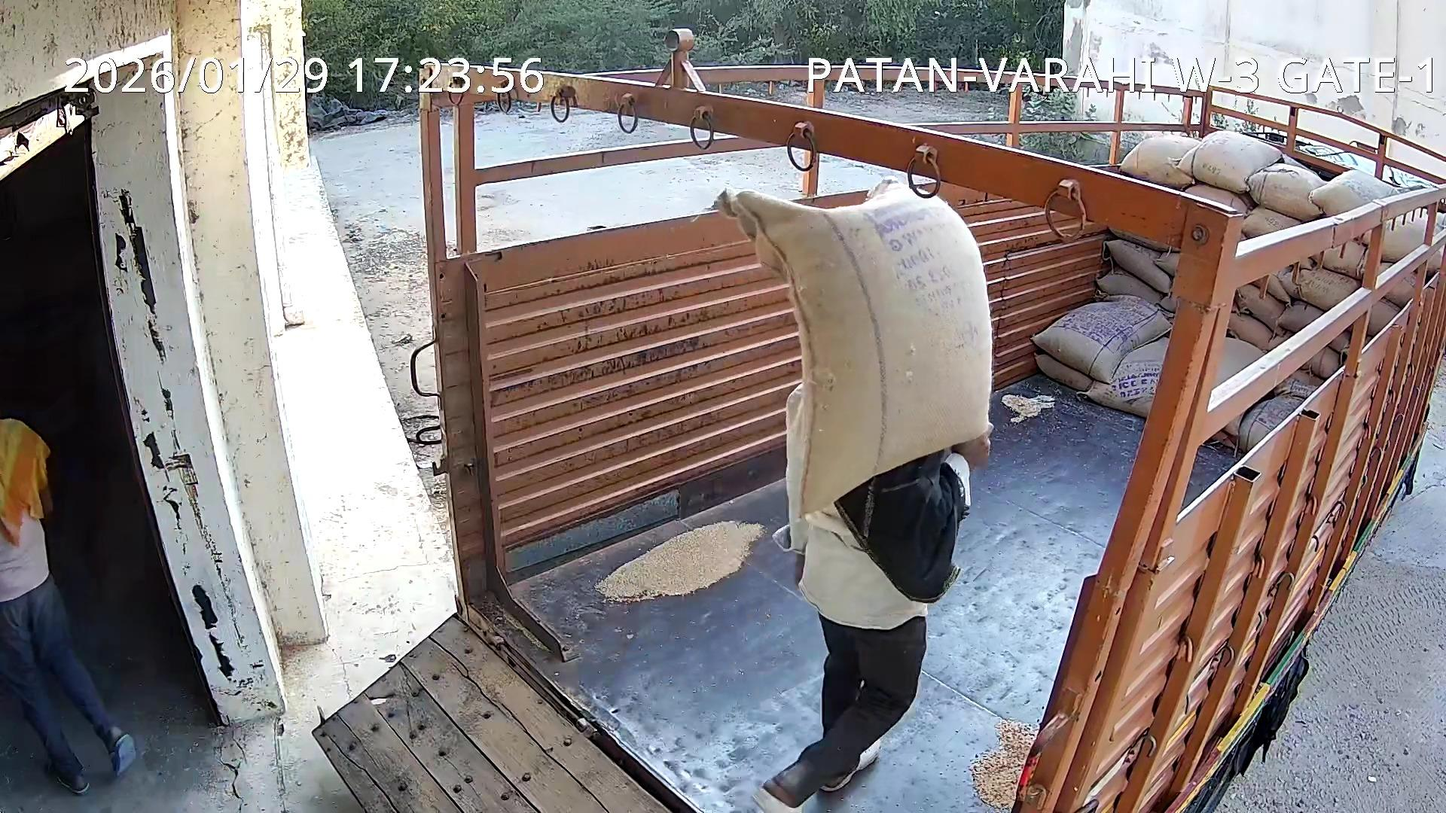Sack: (715, 179, 993, 513)
